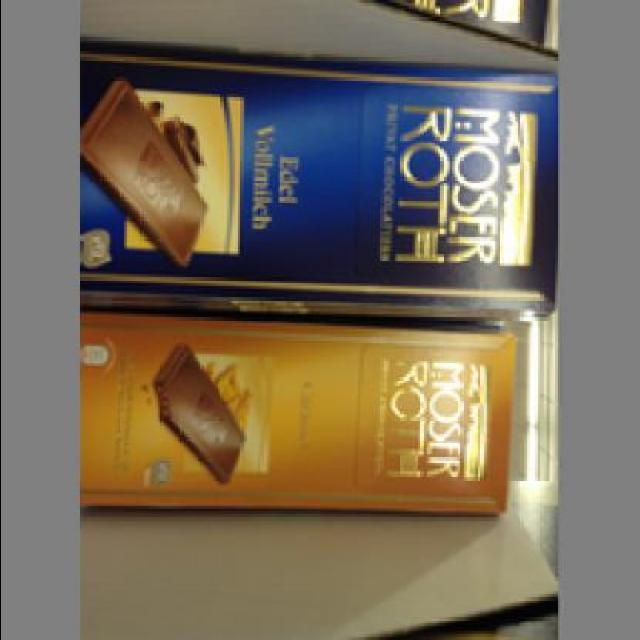Chocolate bar: (83, 37, 560, 309), (83, 311, 523, 511)
